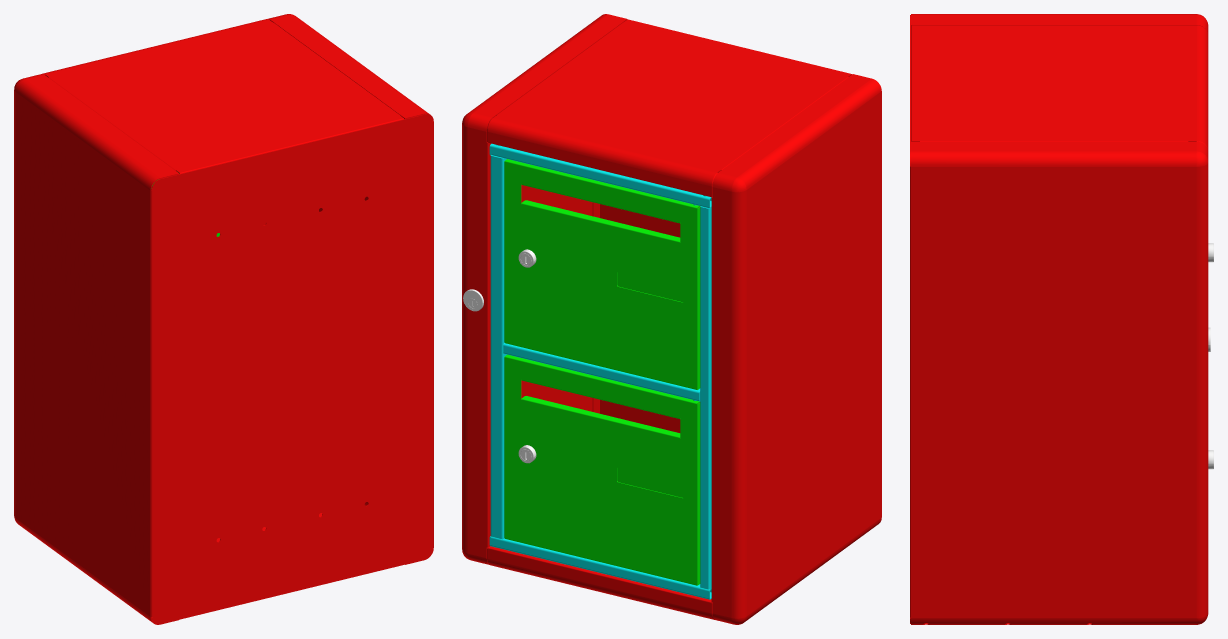
File: discretion_A2.glb
3 views of the same model, side by side, from view 1: azimuth 30°, elevation 25°; view 2: azimuth 150°, elevation 25°; view 3: azimuth 270°, elevation 25° (orthographic). The views are drawn at different scales.
Visible parts, largest first — view 1: TOLE FOND coffre arrondie A2, TOLE DROITE coffre arrondie 2, TOLE DESSUS coffre arrondie A, TOLE GAUCHE coffre arrondie 2_Défaut<Brut d''usinage>; view 2: TOLE DROITE coffre arrondie 2, TOLE DESSUS coffre arrondie A, façade discrétion, façade discrétion_node, TOLE GAUCHE coffre arrondie 2_Défaut<Brut d''usinage>, TOLE PLIEE CROCHET CADRE 2, TUBE COTEE CADRE 2_node, TOLE DESSUS coffre arrondie A_node, TUBE DESSUS CADRE A, TOLE FOND coffre arrondie A2, TUBE DESSOUS CADRE A, TOLE PLIEE SEPARATION HORIZONTALE CADRE A (+2 smaller); view 3: TOLE GAUCHE coffre arrondie 2_Défaut<Brut d''usinage>, TOLE DESSUS coffre arrondie A, TOLE DROITE coffre arrondie 2, TOLE FOND coffre arrondie A2.
Boxes of the visible parts, box(x1,y1,x2,y2) form: TOLE FOND coffre arrondie A2: box(151, 114, 433, 624); TOLE DROITE coffre arrondie 2: box(14, 74, 179, 624); TOLE DESSUS coffre arrondie A: box(42, 19, 403, 173); TOLE GAUCHE coffre arrondie 2_Défaut<Brut d''usinage>: box(268, 14, 433, 564); TOLE DROITE coffre arrondie 2: box(711, 74, 881, 624); TOLE DESSUS coffre arrondie A: box(487, 19, 851, 197); façade discrétion: box(504, 159, 700, 389); façade discrétion_node: box(504, 354, 700, 585); TOLE GAUCHE coffre arrondie 2_Défaut<Brut d''usinage>: box(462, 14, 627, 564); TOLE PLIEE CROCHET CADRE 2: box(489, 143, 506, 546); TUBE COTEE CADRE 2_node: box(700, 206, 711, 589); TOLE DESSUS coffre arrondie A_node: box(487, 546, 714, 619); TUBE DESSUS CADRE A: box(491, 144, 711, 208); TOLE FOND coffre arrondie A2: box(592, 19, 718, 432); TUBE DESSOUS CADRE A: box(491, 536, 711, 599); TOLE PLIEE SEPARATION HORIZONTALE CADRE A: box(503, 343, 700, 401); TOLE GAUCHE coffre arrondie 2_Défaut<Brut d''usinage>: box(911, 141, 1208, 624); TOLE DESSUS coffre arrondie A: box(911, 25, 1208, 150); TOLE DROITE coffre arrondie 2: box(911, 14, 1208, 33); TOLE FOND coffre arrondie A2: box(910, 15, 910, 623).
Size of the model in its own units: 424 by 638 by 372.
